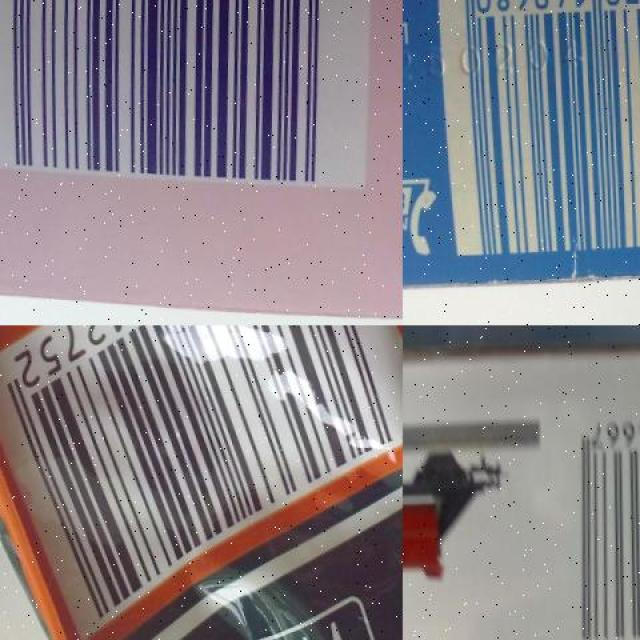Barcode: (0, 325, 403, 640), (0, 0, 376, 195), (428, 0, 640, 259), (549, 385, 640, 640)
